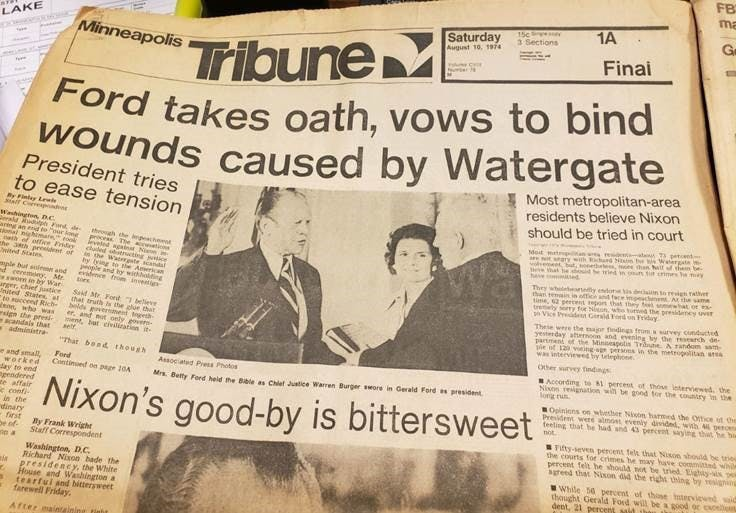news_paper: (1, 1, 735, 512)
